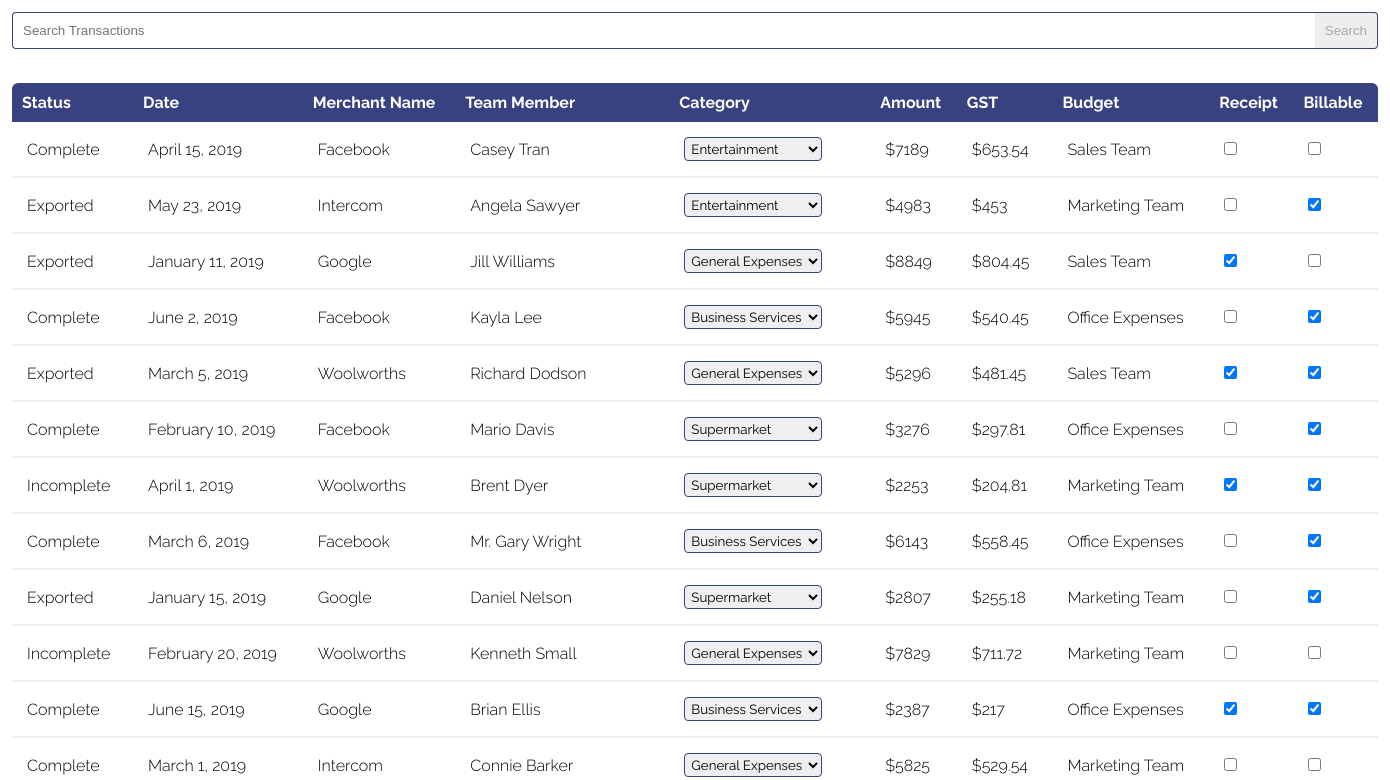
Test case: search button should be enabled when there is no search term
This screenshot has width=1390, height=780.
Type "Enabled" into the field with placeholder "Search Transactions" at [663, 30], box [12,12,1315,49]
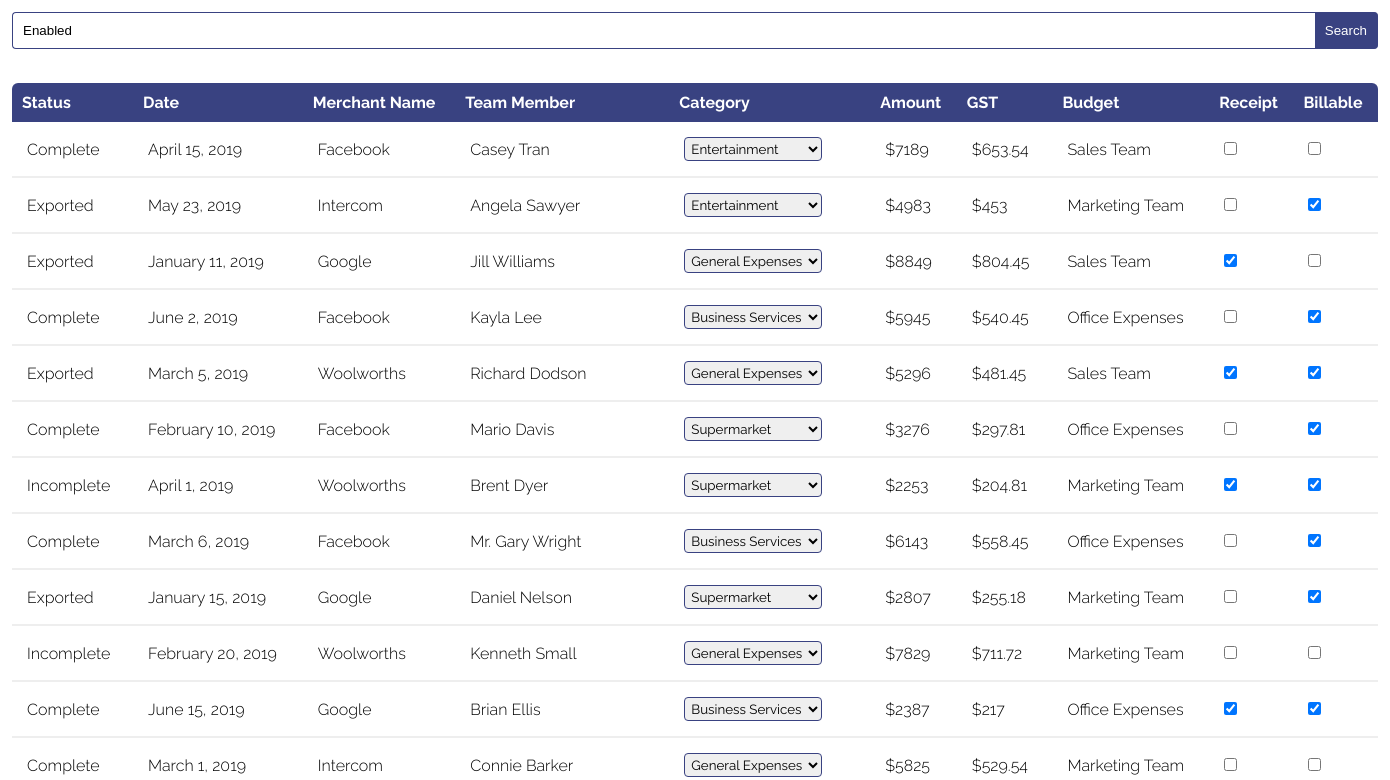
Expected: the button "Search" is enabled, [1315,12,1378,49]
